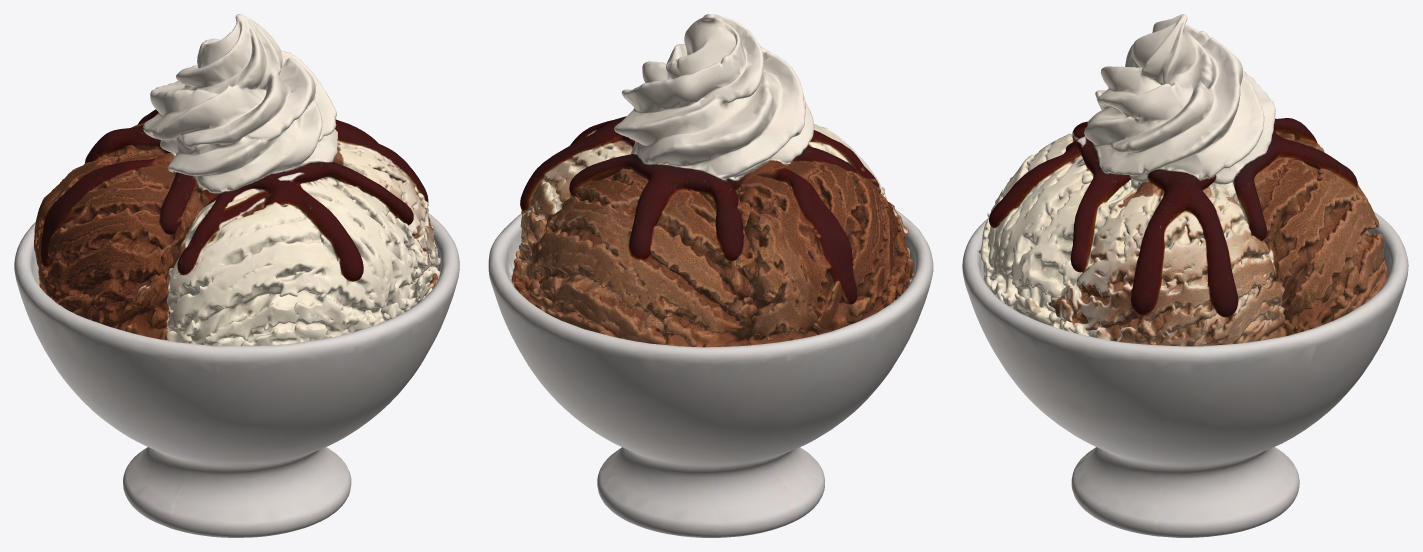
3 views of the same model, side by side, from view 1: azimuth 30°, elevation 25°; view 2: azimuth 150°, elevation 25°; view 3: azimuth 270°, elevation 25° (orthographic).
Size of the model in its own units: 1.61 by 1.9 by 1.61.
1 material, 1 textured.
